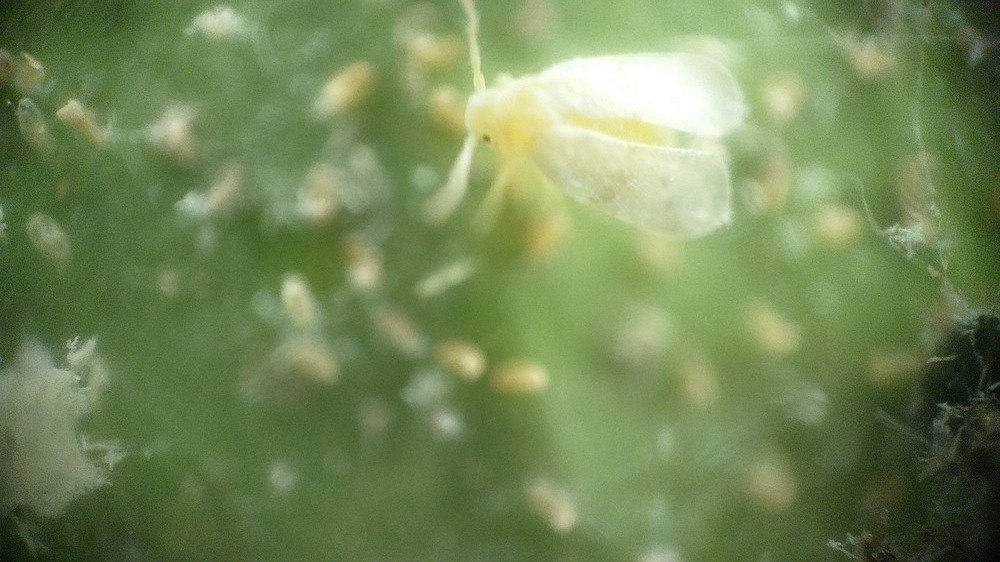Mosca Blanca: (230, 301, 595, 562)
